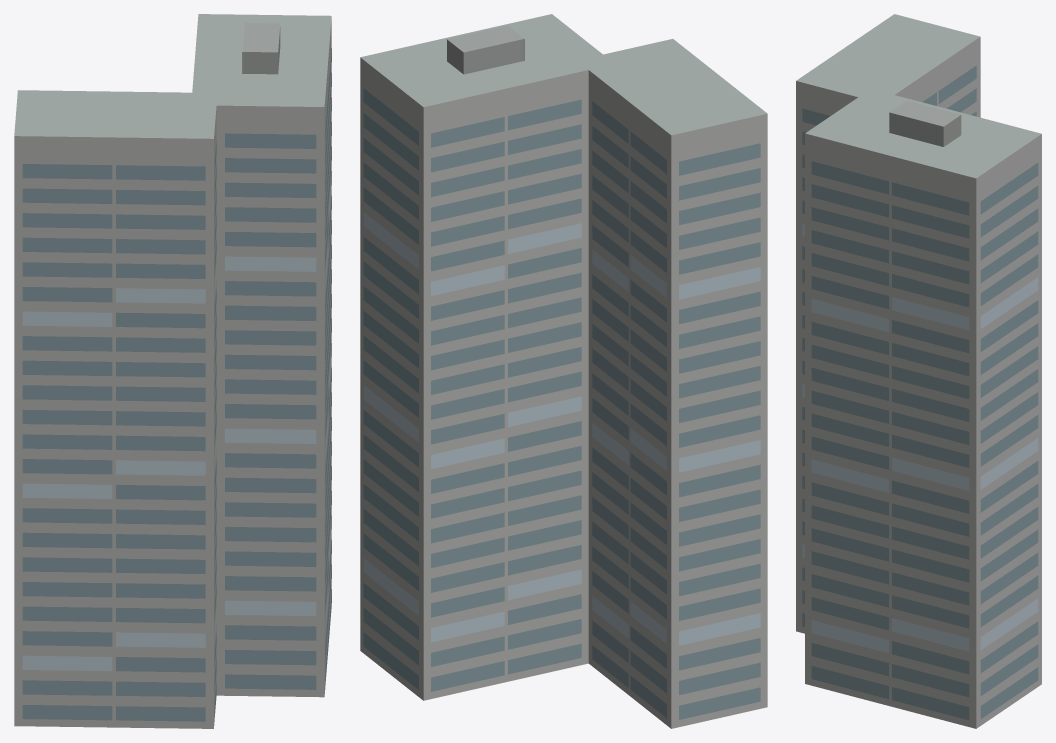
File: fallback-jamsil-parkrio-202.glb
3 views of the same model, side by side, from view 1: azimuth 30°, elevation 25°; view 2: azimuth 150°, elevation 25°; view 3: azimuth 270°, elevation 25° (orthographic). The views are drawn at different scales.
Visible parts, largest first — view 1: fallback-jamsil-parkrio-202; view 2: fallback-jamsil-parkrio-202; view 3: fallback-jamsil-parkrio-202.
Boxes of the visible parts, bbox=[...] form: fallback-jamsil-parkrio-202: bbox=[14, 14, 331, 728]; fallback-jamsil-parkrio-202: bbox=[360, 14, 767, 728]; fallback-jamsil-parkrio-202: bbox=[796, 14, 1041, 728].
Bounding box in the file's own units: 41.39 × 67 × 26.16.
